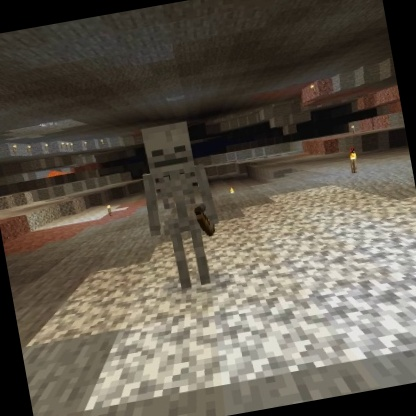skeleton: (128, 114, 233, 298)
